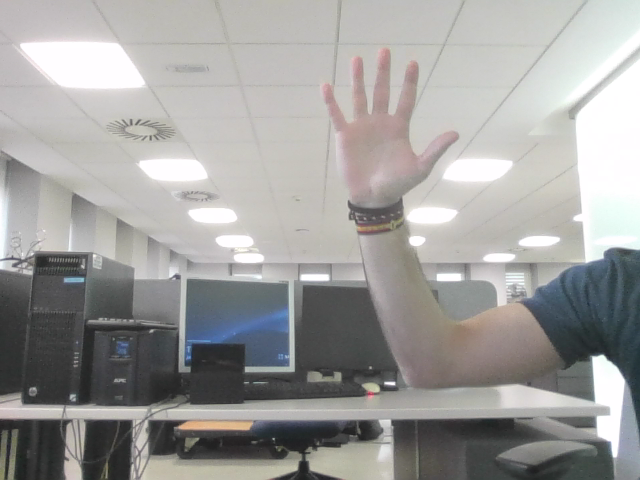Mano Abierta: (330, 59, 445, 179)
